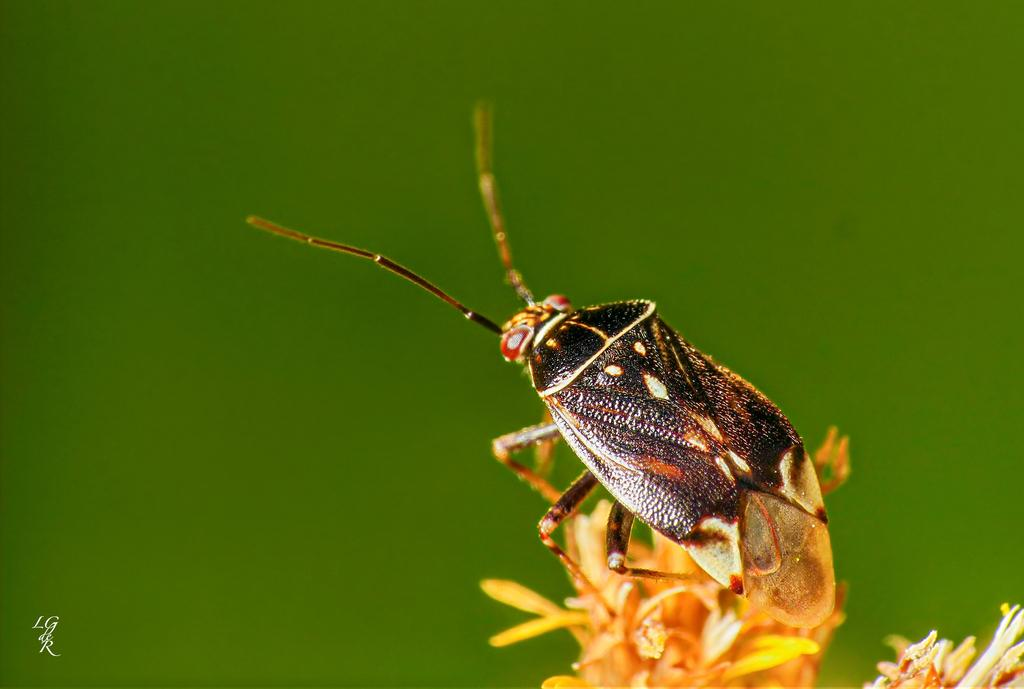plant_bugs: (225, 57, 901, 664)
